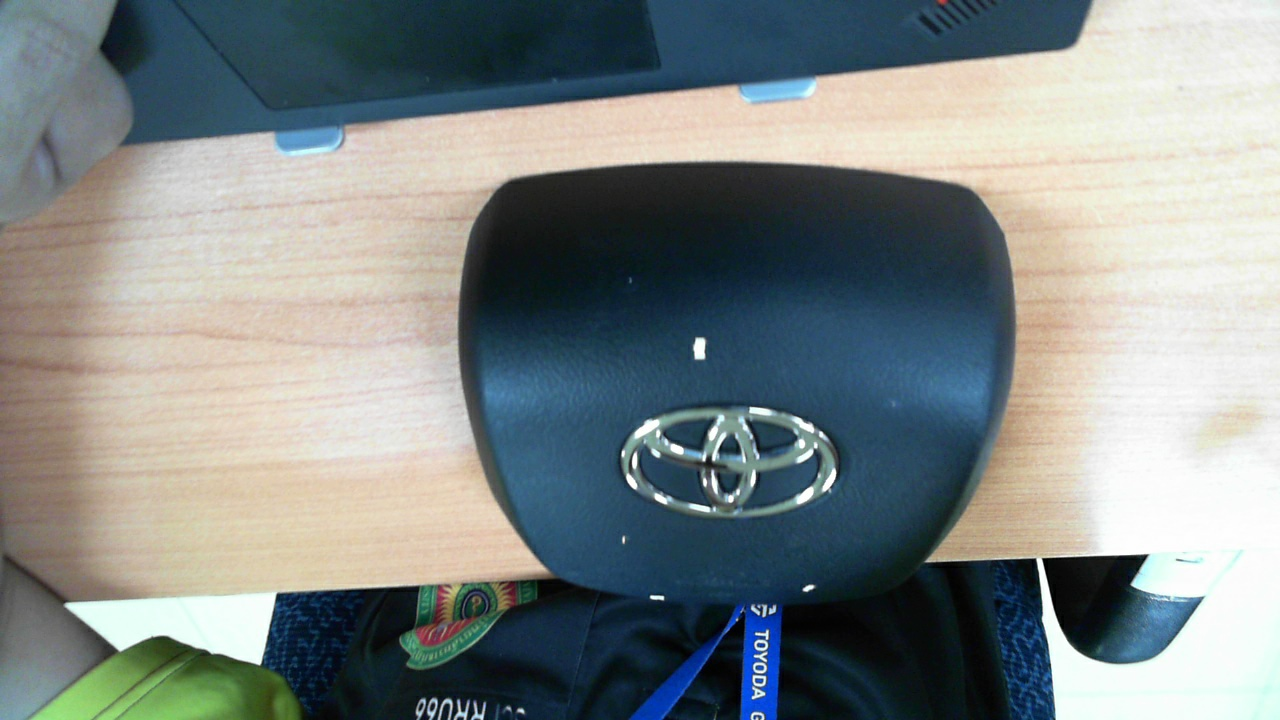Airbag: (457, 161, 1017, 603)
Mark: (693, 337, 707, 361), (803, 584, 816, 593), (649, 595, 664, 601), (621, 535, 626, 544), (892, 401, 896, 408), (629, 276, 632, 284)
